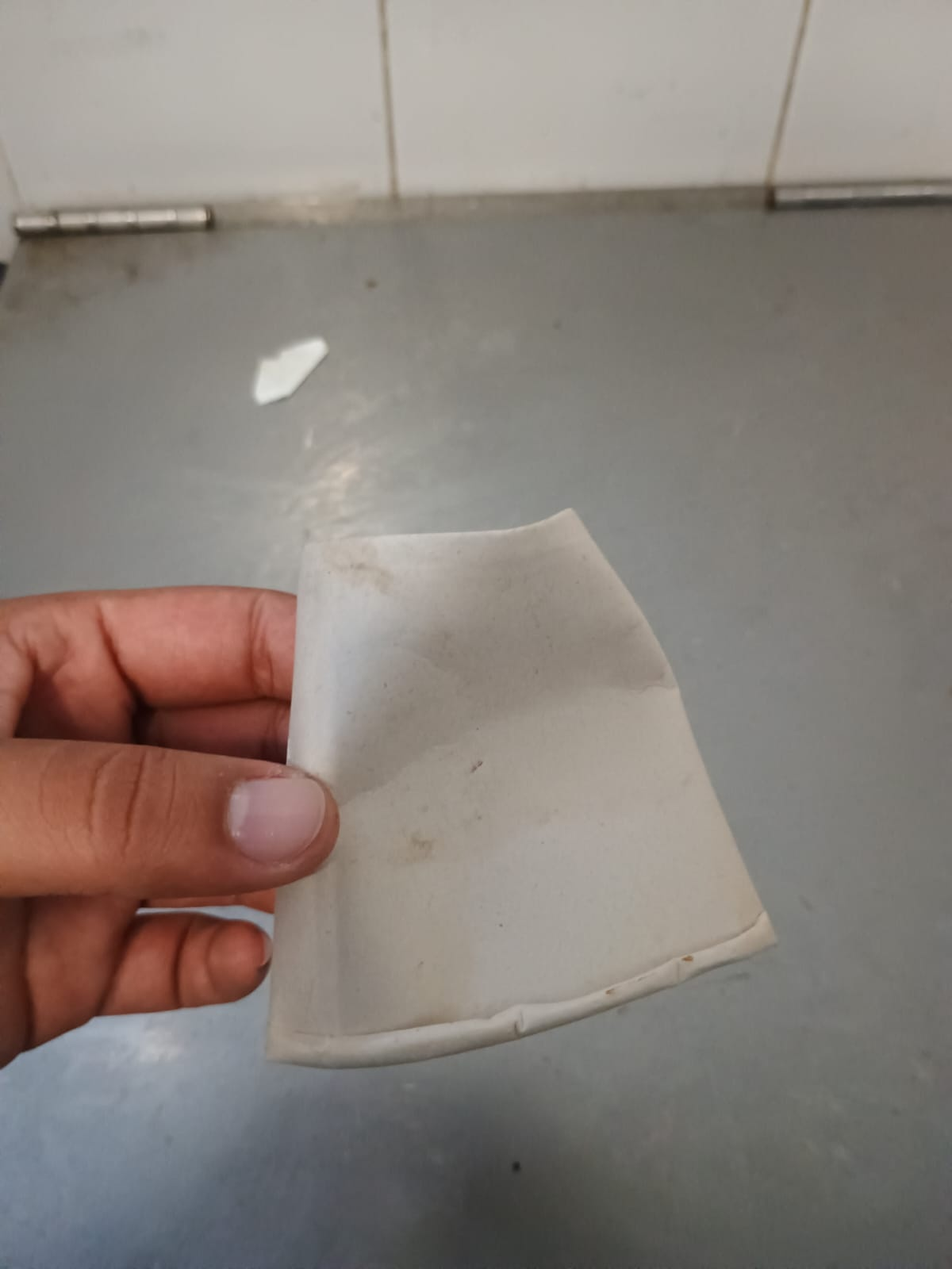Carton: (260, 506, 782, 1069)
